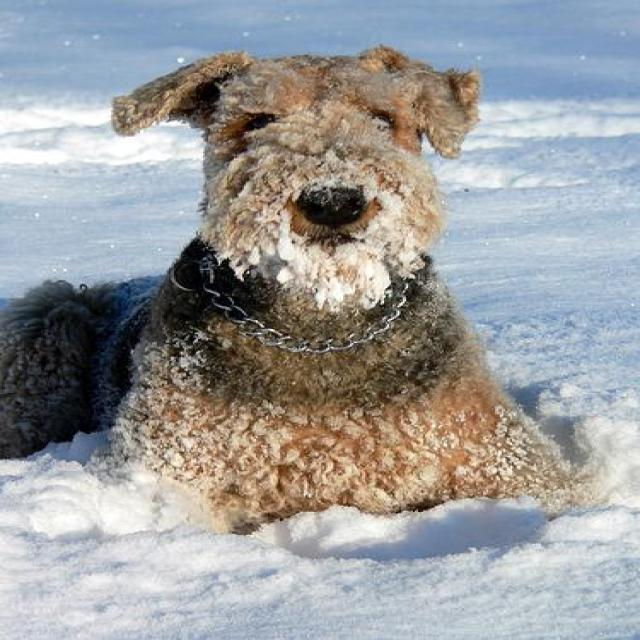airedale: (2, 42, 606, 535)
